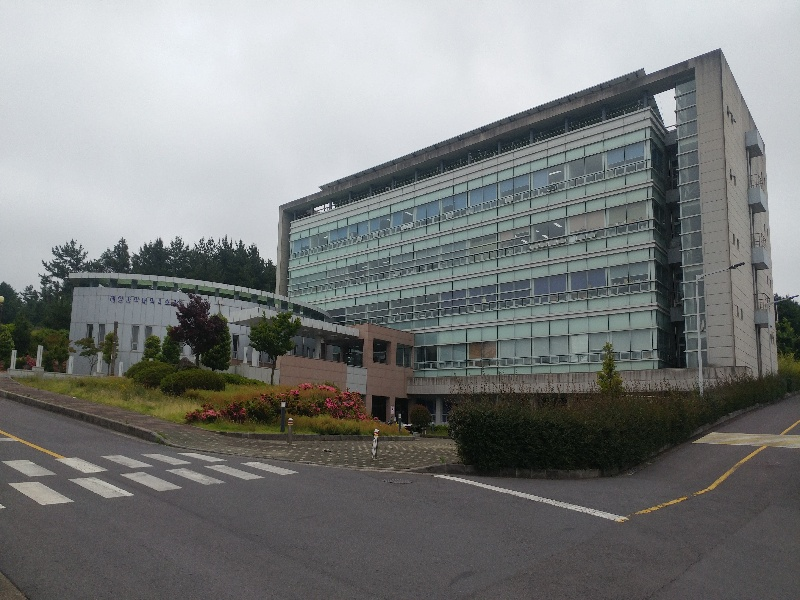College of Marine Science: (70, 75, 782, 392), (277, 144, 776, 373), (66, 273, 268, 378)
